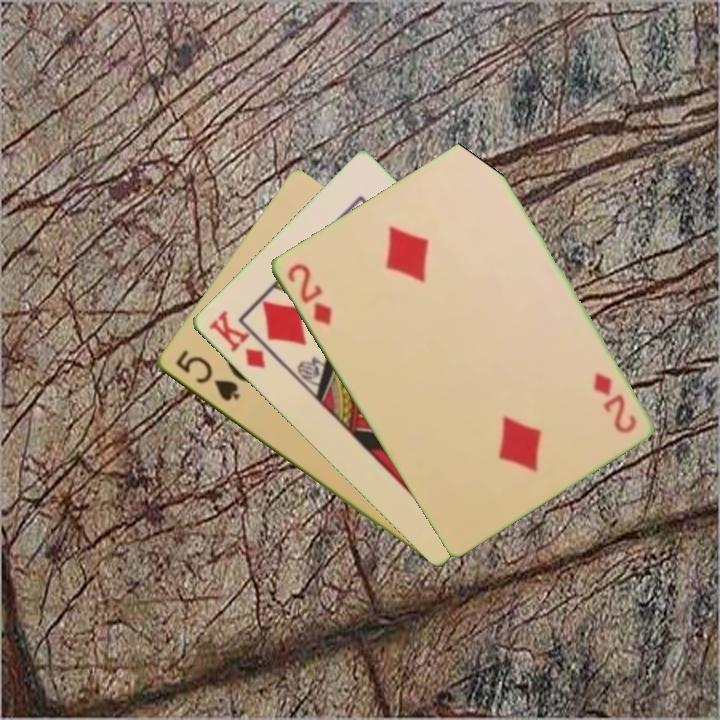2d: (283, 259, 335, 328), (589, 368, 639, 437)
5s: (171, 346, 243, 405)
Kd: (204, 307, 268, 372)
